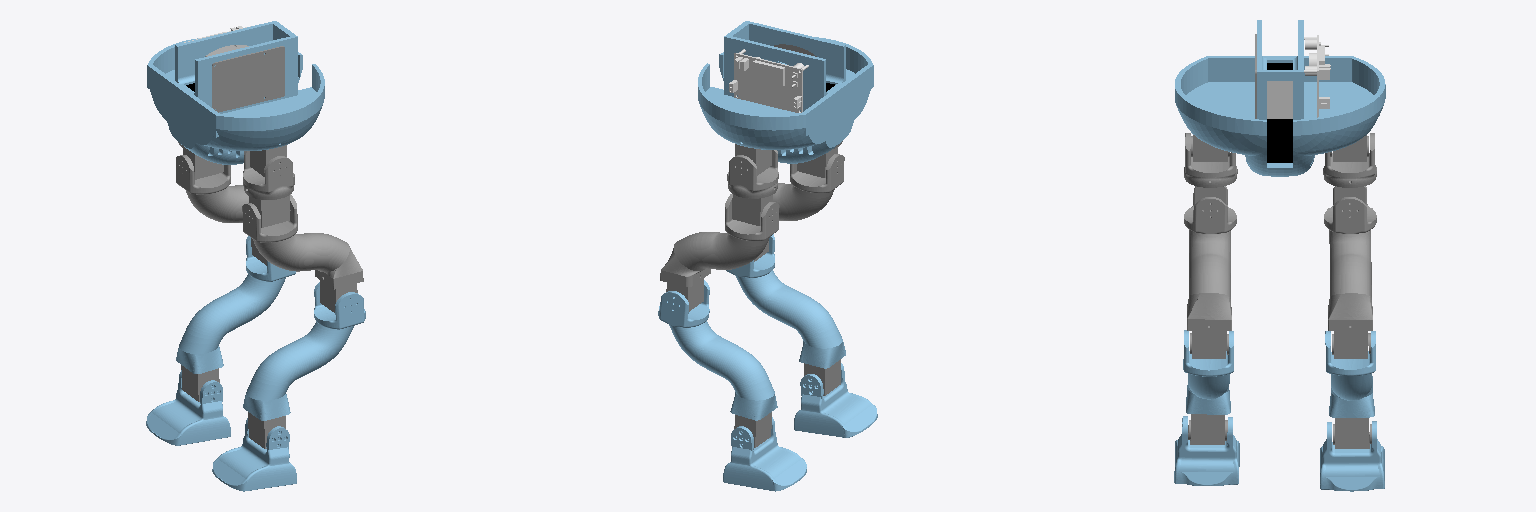
robot.urdf — my-robot:
<?xml version="1.0" ?>
<!-- Generated using onshape-to-robot -->
<!-- Onshape https://cad.onshape.com/documents/9d2080de34ebceed1cc9ba44/w/3a1644932f3a523ccc92595b/e/56ccc4c1c9e4b5ecf9cbc1f9 -->
<robot name="my-robot">
  <!-- Link part_1 -->
  <link name="part_1">
    <inertial>
      <origin xyz="0.0668593 0.0314302 -0.121388" rpy="0 0 0"/>
      <mass value="0.245119"/>
      <inertia ixx="0.00024011" ixy="-6.46676e-07" ixz="0.000196596" iyy="0.000484832" iyz="3.52593e-07" izz="0.000298617"/>
    </inertial>
    <!-- Part part_5 -->
    <visual>
      <origin xyz="0.113875 0.0481558 -0.139531" rpy="-0.00700843 0.0176317 3.14159"/>
      <geometry>
        <mesh filename="package://assets/part_5.stl"/>
      </geometry>
      <material name="part_5_material">
        <color rgba="0.647059 0.647059 0.647059 1"/>
      </material>
    </visual>
    <collision>
      <origin xyz="0.113875 0.0481558 -0.139531" rpy="-0.00700843 0.0176317 3.14159"/>
      <geometry>
        <mesh filename="package://assets/part_5.stl"/>
      </geometry>
    </collision>
    <!-- Part part_1 -->
    <visual>
      <origin xyz="0.0226911 0.0312427 -0.0822472" rpy="0.00700843 -0.0176317 -0"/>
      <geometry>
        <mesh filename="package://assets/part_1.stl"/>
      </geometry>
      <material name="part_1_material">
        <color rgba="0.647059 0.647059 0.647059 1"/>
      </material>
    </visual>
    <collision>
      <origin xyz="0.0226911 0.0312427 -0.0822472" rpy="0.00700843 -0.0176317 -0"/>
      <geometry>
        <mesh filename="package://assets/part_1.stl"/>
      </geometry>
    </collision>
    <!-- Part part_6 -->
    <visual>
      <origin xyz="0.00618847 0.0433435 -0.0255237" rpy="0.0176322 0.00700735 -1.57067"/>
      <geometry>
        <mesh filename="package://assets/part_6.stl"/>
      </geometry>
      <material name="part_6_material">
        <color rgba="0.647059 0.647059 0.647059 1"/>
      </material>
    </visual>
    <collision>
      <origin xyz="0.00618847 0.0433435 -0.0255237" rpy="0.0176322 0.00700735 -1.57067"/>
      <geometry>
        <mesh filename="package://assets/part_6.stl"/>
      </geometry>
    </collision>
  </link>
  <!-- Link part_1_2 -->
  <link name="part_1_2">
    <inertial>
      <origin xyz="-8.07175e-06 0.0238271 -0.0136689" rpy="0 0 0"/>
      <mass value="0.0916657"/>
      <inertia ixx="3.98558e-05" ixy="-3.68673e-07" ixz="1.22e-10" iyy="2.51053e-05" iyz="-3.68817e-07" izz="4.26429e-05"/>
    </inertial>
    <!-- Part part_1_2 -->
    <visual>
      <origin xyz="-0.000168201 0.0239994 -0.0135" rpy="1.5708 -0 -3.13458"/>
      <geometry>
        <mesh filename="package://assets/part_1__2.stl"/>
      </geometry>
      <material name="part_1_2_material">
        <color rgba="0.647059 0.647059 0.647059 1"/>
      </material>
    </visual>
    <collision>
      <origin xyz="-0.000168201 0.0239994 -0.0135" rpy="1.5708 -0 -3.13458"/>
      <geometry>
        <mesh filename="package://assets/part_1__2.stl"/>
      </geometry>
    </collision>
    <!-- Part part_5_2 -->
    <visual>
      <origin xyz="-0.012752 0.0359115 0.003" rpy="-1.5708 -0 0.00700843"/>
      <geometry>
        <mesh filename="package://assets/part_5.stl"/>
      </geometry>
      <material name="part_5_2_material">
        <color rgba="0.647059 0.647059 0.647059 1"/>
      </material>
    </visual>
    <collision>
      <origin xyz="-0.012752 0.0359115 0.003" rpy="-1.5708 -0 0.00700843"/>
      <geometry>
        <mesh filename="package://assets/part_5.stl"/>
      </geometry>
    </collision>
    <!-- Part part_8 -->
    <visual>
      <origin xyz="0.0161533 0.092335 -0.026" rpy="-1.5778 1.5708 0"/>
      <geometry>
        <mesh filename="package://assets/part_8.stl"/>
      </geometry>
      <material name="part_8_material">
        <color rgba="0.647059 0.647059 0.647059 1"/>
      </material>
    </visual>
    <collision>
      <origin xyz="0.0161533 0.092335 -0.026" rpy="-1.5778 1.5708 0"/>
      <geometry>
        <mesh filename="package://assets/part_8.stl"/>
      </geometry>
    </collision>
  </link>
  <!-- Link part_7 -->
  <link name="part_7">
    <inertial>
      <origin xyz="0.00122883 0.0335318 0.0509567" rpy="0 0 0"/>
      <mass value="1.38685"/>
      <inertia ixx="0.00339891" ixy="-4.83313e-05" ixz="-1.14056e-05" iyy="0.00379814" iyz="0.000138768" izz="0.00271512"/>
    </inertial>
    <!-- Part control -->
    <visual>
      <origin xyz="0.0603 0.0574731 0.0405401" rpy="1.5708 0 1.5708"/>
      <geometry>
        <mesh filename="package://assets/control.stl"/>
      </geometry>
      <material name="control_material">
        <color rgba="0.917647 0.917647 0.917647 1"/>
      </material>
    </visual>
    <collision>
      <origin xyz="0.0603 0.0574731 0.0405401" rpy="1.5708 0 1.5708"/>
      <geometry>
        <mesh filename="package://assets/control.stl"/>
      </geometry>
    </collision>
    <!-- Part part_7 -->
    <visual>
      <origin xyz="0.0125 0.036 0.003" rpy="-1.5708 -0 0"/>
      <geometry>
        <mesh filename="package://assets/part_7.stl"/>
      </geometry>
      <material name="part_7_material">
        <color rgba="0.647059 0.647059 0.647059 1"/>
      </material>
    </visual>
    <collision>
      <origin xyz="0.0125 0.036 0.003" rpy="-1.5708 -0 0"/>
      <geometry>
        <mesh filename="package://assets/part_7.stl"/>
      </geometry>
    </collision>
    <!-- Part dc_converter_5_3_32v_to_1_2_32v -->
    <visual>
      <origin xyz="0.00744007 0.0666643 0.01555" rpy="-0 0 0"/>
      <geometry>
        <mesh filename="package://assets/dc_converter_5_3_32v_to_1_2_32v.stl"/>
      </geometry>
      <material name="dc_converter_5_3_32v_to_1_2_32v_material">
        <color rgba="0.917647 0.917647 0.917647 1"/>
      </material>
    </visual>
    <collision>
      <origin xyz="0.00744007 0.0666643 0.01555" rpy="-0 0 0"/>
      <geometry>
        <mesh filename="package://assets/dc_converter_5_3_32v_to_1_2_32v.stl"/>
      </geometry>
    </collision>
    <!-- Part battery -->
    <visual>
      <origin xyz="-0.0523205 0.001 0.0651" rpy="3.14159 0 1.5708"/>
      <geometry>
        <mesh filename="package://assets/battery.stl"/>
      </geometry>
      <material name="battery_material">
        <color rgba="0 0 0 1"/>
      </material>
    </visual>
    <collision>
      <origin xyz="-0.0523205 0.001 0.0651" rpy="3.14159 0 1.5708"/>
      <geometry>
        <mesh filename="package://assets/battery.stl"/>
      </geometry>
    </collision>
    <!-- Part pi -->
    <visual>
      <origin xyz="0.00161778 0.0721275 0.07635" rpy="-1.5708 0 -0"/>
      <geometry>
        <mesh filename="package://assets/pi.stl"/>
      </geometry>
      <material name="pi_material">
        <color rgba="0.647059 0.647059 0.647059 1"/>
      </material>
    </visual>
    <collision>
      <origin xyz="0.00161778 0.0721275 0.07635" rpy="-1.5708 0 -0"/>
      <geometry>
        <mesh filename="package://assets/pi.stl"/>
      </geometry>
    </collision>
    <!-- Part part_7_2 -->
    <visual>
      <origin xyz="0.0125 0.036 0.1361" rpy="-1.5708 -0 0"/>
      <geometry>
        <mesh filename="package://assets/part_7.stl"/>
      </geometry>
      <material name="part_7_2_material">
        <color rgba="0.647059 0.647059 0.647059 1"/>
      </material>
    </visual>
    <collision>
      <origin xyz="0.0125 0.036 0.1361" rpy="-1.5708 -0 0"/>
      <geometry>
        <mesh filename="package://assets/part_7.stl"/>
      </geometry>
    </collision>
    <!-- Part board -->
    <visual>
      <origin xyz="-0.0127 -0.0205 0.06194" rpy="-1.5708 -0 0"/>
      <geometry>
        <mesh filename="package://assets/board.stl"/>
      </geometry>
      <material name="board_material">
        <color rgba="0.470588 0.431373 0.27451 1"/>
      </material>
    </visual>
    <collision>
      <origin xyz="-0.0127 -0.0205 0.06194" rpy="-1.5708 -0 0"/>
      <geometry>
        <mesh filename="package://assets/board.stl"/>
      </geometry>
    </collision>
    <!-- Part body -->
    <visual>
      <origin xyz="0 0.081 0.05305" rpy="-1.5708 1.5708 0"/>
      <geometry>
        <mesh filename="package://assets/body.stl"/>
      </geometry>
      <material name="body_material">
        <color rgba="0.615686 0.811765 0.929412 1"/>
      </material>
    </visual>
    <collision>
      <origin xyz="0 0.081 0.05305" rpy="-1.5708 1.5708 0"/>
      <geometry>
        <mesh filename="package://assets/body.stl"/>
      </geometry>
    </collision>
  </link>
  <!-- Link part_5 -->
  <link name="part_5">
    <inertial>
      <origin xyz="0.00104858 0.0323764 0.0136411" rpy="0 0 0"/>
      <mass value="0.0916657"/>
      <inertia ixx="4.26099e-05" ixy="-8.44248e-07" ixz="-1.5282e-08" iyy="2.51441e-05" iyz="-4.71771e-07" izz="3.98499e-05"/>
    </inertial>
    <!-- Part part_8_2 -->
    <visual>
      <origin xyz="0.0115176 -0.0363262 -0.003" rpy="1.5708 0 -0.0271632"/>
      <geometry>
        <mesh filename="package://assets/part_8.stl"/>
      </geometry>
      <material name="part_8_2_material">
        <color rgba="0.647059 0.647059 0.647059 1"/>
      </material>
    </visual>
    <collision>
      <origin xyz="0.0115176 -0.0363262 -0.003" rpy="1.5708 0 -0.0271632"/>
      <geometry>
        <mesh filename="package://assets/part_8.stl"/>
      </geometry>
    </collision>
    <!-- Part part_5_3 -->
    <visual>
      <origin xyz="-0.0159448 0.0206602 0.0263" rpy="1.59796 1.5708 0"/>
      <geometry>
        <mesh filename="package://assets/part_5.stl"/>
      </geometry>
      <material name="part_5_3_material">
        <color rgba="0.647059 0.647059 0.647059 1"/>
      </material>
    </visual>
    <collision>
      <origin xyz="-0.0159448 0.0206602 0.0263" rpy="1.59796 1.5708 0"/>
      <geometry>
        <mesh filename="package://assets/part_5.stl"/>
      </geometry>
    </collision>
    <!-- Part part_1_3 -->
    <visual>
      <origin xyz="0.000875076 0.0322076 0.0138" rpy="1.54363 -1.5708 0"/>
      <geometry>
        <mesh filename="package://assets/part_1__2.stl"/>
      </geometry>
      <material name="part_1_3_material">
        <color rgba="0.647059 0.647059 0.647059 1"/>
      </material>
    </visual>
    <collision>
      <origin xyz="0.000875076 0.0322076 0.0138" rpy="1.54363 -1.5708 0"/>
      <geometry>
        <mesh filename="package://assets/part_1__2.stl"/>
      </geometry>
    </collision>
  </link>
  <!-- Link part_5_2 -->
  <link name="part_5_2">
    <inertial>
      <origin xyz="0.000803505 0.060828 0.0559712" rpy="0 0 0"/>
      <mass value="0.245119"/>
      <inertia ixx="0.000484778" ixy="-3.24788e-06" ixz="-3.05313e-06" iyy="0.000291722" iyz="-0.000197483" izz="0.000247059"/>
    </inertial>
    <!-- Part part_1_4 -->
    <visual>
      <origin xyz="0.000244602 0.0209181 0.0125" rpy="1.5591 -1.5708 0"/>
      <geometry>
        <mesh filename="package://assets/part_1.stl"/>
      </geometry>
      <material name="part_1_4_material">
        <color rgba="0.647059 0.647059 0.647059 1"/>
      </material>
    </visual>
    <collision>
      <origin xyz="0.000244602 0.0209181 0.0125" rpy="1.5591 -1.5708 0"/>
      <geometry>
        <mesh filename="package://assets/part_1.stl"/>
      </geometry>
    </collision>
    <!-- Part part_6_2 -->
    <visual>
      <origin xyz="-0.0358514 0.0129201 -0.003" rpy="1.5708 0 -1.58249"/>
      <geometry>
        <mesh filename="package://assets/part_6.stl"/>
      </geometry>
      <material name="part_6_2_material">
        <color rgba="0.647059 0.647059 0.647059 1"/>
      </material>
    </visual>
    <collision>
      <origin xyz="-0.0358514 0.0129201 -0.003" rpy="1.5708 0 -1.58249"/>
      <geometry>
        <mesh filename="package://assets/part_6.stl"/>
      </geometry>
    </collision>
    <!-- Part part_5_4 -->
    <visual>
      <origin xyz="-0.0155644 0.080107 0.10266" rpy="1.58249 1.5708 0"/>
      <geometry>
        <mesh filename="package://assets/part_5.stl"/>
      </geometry>
      <material name="part_5_4_material">
        <color rgba="0.647059 0.647059 0.647059 1"/>
      </material>
    </visual>
    <collision>
      <origin xyz="-0.0155644 0.080107 0.10266" rpy="1.58249 1.5708 0"/>
      <geometry>
        <mesh filename="package://assets/part_5.stl"/>
      </geometry>
    </collision>
  </link>
  <!-- Link part_7_2 -->
  <link name="part_7_2">
    <inertial>
      <origin xyz="0.0644761 -0.0524862 0.0133635" rpy="0 0 0"/>
      <mass value="0.2527"/>
      <inertia ixx="0.000367512" ixy="0.000259026" ixz="-1.13125e-06" iyy="0.000311084" iyz="5.35788e-07" izz="0.00061609"/>
    </inertial>
    <!-- Part part_1_5 -->
    <visual>
      <origin xyz="0.0196195 0 0.0133" rpy="-1.5708 -0 1.5708"/>
      <geometry>
        <mesh filename="package://assets/part_1__3.stl"/>
      </geometry>
      <material name="part_1_5_material">
        <color rgba="0.615686 0.811765 0.929412 1"/>
      </material>
    </visual>
    <collision>
      <origin xyz="0.0196195 0 0.0133" rpy="-1.5708 -0 1.5708"/>
      <geometry>
        <mesh filename="package://assets/part_1__3.stl"/>
      </geometry>
    </collision>
    <!-- Part part_7_3 -->
    <visual>
      <origin xyz="0.0899876 -0.101241 -0.0032" rpy="1.5708 0 -1.5894"/>
      <geometry>
        <mesh filename="package://assets/part_7.stl"/>
      </geometry>
      <material name="part_7_3_material">
        <color rgba="0.647059 0.647059 0.647059 1"/>
      </material>
    </visual>
    <collision>
      <origin xyz="0.0899876 -0.101241 -0.0032" rpy="1.5708 0 -1.5894"/>
      <geometry>
        <mesh filename="package://assets/part_7.stl"/>
      </geometry>
    </collision>
    <!-- Part part_6_3 -->
    <visual>
      <origin xyz="-0.0125 -0.036 -0.003" rpy="1.5708 -0 -0"/>
      <geometry>
        <mesh filename="package://assets/part_6.stl"/>
      </geometry>
      <material name="part_6_3_material">
        <color rgba="0.647059 0.647059 0.647059 1"/>
      </material>
    </visual>
    <collision>
      <origin xyz="-0.0125 -0.036 -0.003" rpy="1.5708 -0 -0"/>
      <geometry>
        <mesh filename="package://assets/part_6.stl"/>
      </geometry>
    </collision>
  </link>
  <!-- Link part_8 -->
  <link name="part_8">
    <inertial>
      <origin xyz="0.0076145 0.0329333 0.0136792" rpy="0 0 0"/>
      <mass value="0.124333"/>
      <inertia ixx="5.58472e-05" ixy="-6.12256e-06" ixz="-1.12369e-07" iyy="7.28398e-05" iyz="-4.83307e-07" izz="5.15735e-05"/>
    </inertial>
    <!-- Part left_foot -->
    <visual>
      <origin xyz="-0.0526263 0.014345 0.0138" rpy="-3.14159 1.5708 0"/>
      <geometry>
        <mesh filename="package://assets/left_foot.stl"/>
      </geometry>
      <material name="left_foot_material">
        <color rgba="0.615686 0.811765 0.929412 1"/>
      </material>
    </visual>
    <collision>
      <origin xyz="-0.0526263 0.014345 0.0138" rpy="-3.14159 1.5708 0"/>
      <geometry>
        <mesh filename="package://assets/left_foot.stl"/>
      </geometry>
    </collision>
    <!-- Part part_8_3 -->
    <visual>
      <origin xyz="0.0125 -0.036 -0.003" rpy="1.5708 -0 -0"/>
      <geometry>
        <mesh filename="package://assets/part_8.stl"/>
      </geometry>
      <material name="part_8_3_material">
        <color rgba="0.647059 0.647059 0.647059 1"/>
      </material>
    </visual>
    <collision>
      <origin xyz="0.0125 -0.036 -0.003" rpy="1.5708 -0 -0"/>
      <geometry>
        <mesh filename="package://assets/part_8.stl"/>
      </geometry>
    </collision>
  </link>
  <!-- Joint from part_7_2 to part_8 -->
  <joint name="ankle_pitch_left_id8" type="revolute">
    <origin xyz="0.126214 -0.0894132 -0.0002" rpy="0 -0 -1.706"/>
    <parent link="part_7_2"/>
    <child link="part_8"/>
    <axis xyz="0 0 1"/>
    <limit effort="10" velocity="10" lower="-1.4542" upper="1.68739"/>
  </joint>
  <!-- Joint from part_5_2 to part_7_2 -->
  <joint name="knee_pitch_left_id7" type="revolute">
    <origin xyz="-0.0121437 0.116069 0.0901596" rpy="1.5708 -0.0154402 1.5591"/>
    <parent link="part_5_2"/>
    <child link="part_7_2"/>
    <axis xyz="0 0 1"/>
    <limit effort="10" velocity="10" lower="-1.1499" upper="1.29356"/>
  </joint>
  <!-- Joint from part_5 to part_5_2 -->
  <joint name="hip_yaw_left_id2" type="revolute">
    <origin xyz="-0.0119681 0.0565654 0.0138" rpy="0.0271632 1.5708 0"/>
    <parent link="part_5"/>
    <child link="part_5_2"/>
    <axis xyz="0 0 1"/>
    <limit effort="10" velocity="10" lower="-1.5591" upper="1.58249"/>
  </joint>
  <!-- Joint from part_7 to part_5 -->
  <joint name="hip_pitch_left_id1" type="revolute">
    <origin xyz="-0 0 0.1331" rpy="3.14159 -0 0"/>
    <parent link="part_7"/>
    <child link="part_5"/>
    <axis xyz="0 0 1"/>
    <limit effort="10" velocity="10" lower="-1.19457" upper="1.07436"/>
  </joint>
  <!-- Joint from part_1_2 to part_7 -->
  <joint name="hip_pitch_right_id5" type="revolute">
    <origin xyz="0.0134057 0.0563148 -0.0135" rpy="-1.5708 1.55316 -1.56379"/>
    <parent link="part_1_2"/>
    <child link="part_7"/>
    <axis xyz="0 0 1"/>
    <limit effort="10" velocity="10" lower="-0.855033" upper="0.977563"/>
  </joint>
  <!-- Joint from part_1 to part_1_2 -->
  <joint name="hip_yaw_right_id6" type="revolute">
    <origin xyz="0.00982425 0.0310961 -0.0615519" rpy="1.58843 0.00700735 -1.57067"/>
    <parent link="part_1"/>
    <child link="part_1_2"/>
    <axis xyz="0 0 1"/>
    <limit effort="10" velocity="10" lower="-1.31601" upper="1.21472"/>
  </joint>
  <!-- Link part_1_3 -->
  <link name="part_1_3">
    <inertial>
      <origin xyz="0.0524862 0.0644761 0.0133635" rpy="0 0 0"/>
      <mass value="0.2527"/>
      <inertia ixx="0.000311084" ixy="-0.000259026" ixz="-5.35788e-07" iyy="0.000367512" iyz="-1.13125e-06" izz="0.00061609"/>
    </inertial>
    <!-- Part part_6_4 -->
    <visual>
      <origin xyz="-0.0125 -0.036 -0.003" rpy="1.5708 -0 -0"/>
      <geometry>
        <mesh filename="package://assets/part_6.stl"/>
      </geometry>
      <material name="part_6_4_material">
        <color rgba="0.647059 0.647059 0.647059 1"/>
      </material>
    </visual>
    <collision>
      <origin xyz="-0.0125 -0.036 -0.003" rpy="1.5708 -0 -0"/>
      <geometry>
        <mesh filename="package://assets/part_6.stl"/>
      </geometry>
    </collision>
    <!-- Part part_7_4 -->
    <visual>
      <origin xyz="0.101241 0.0899876 -0.0032" rpy="1.5708 0 -0.0186013"/>
      <geometry>
        <mesh filename="package://assets/part_7.stl"/>
      </geometry>
      <material name="part_7_4_material">
        <color rgba="0.647059 0.647059 0.647059 1"/>
      </material>
    </visual>
    <collision>
      <origin xyz="0.101241 0.0899876 -0.0032" rpy="1.5708 0 -0.0186013"/>
      <geometry>
        <mesh filename="package://assets/part_7.stl"/>
      </geometry>
    </collision>
    <!-- Part part_1_6 -->
    <visual>
      <origin xyz="-0 0.0196195 0.0133" rpy="-1.5708 -0 3.14159"/>
      <geometry>
        <mesh filename="package://assets/part_1__3.stl"/>
      </geometry>
      <material name="part_1_6_material">
        <color rgba="0.615686 0.811765 0.929412 1"/>
      </material>
    </visual>
    <collision>
      <origin xyz="-0 0.0196195 0.0133" rpy="-1.5708 -0 3.14159"/>
      <geometry>
        <mesh filename="package://assets/part_1__3.stl"/>
      </geometry>
    </collision>
  </link>
  <!-- Link part_8_2 -->
  <link name="part_8_2">
    <inertial>
      <origin xyz="0.0076145 0.0341862 0.0136792" rpy="0 0 0"/>
      <mass value="0.124333"/>
      <inertia ixx="5.5916e-05" ixy="-6.13037e-06" ixz="-1.12369e-07" iyy="7.28398e-05" iyz="-5.01561e-07" izz="5.16424e-05"/>
    </inertial>
    <!-- Part part_8_4 -->
    <visual>
      <origin xyz="0.0125 -0.036 -0.003" rpy="1.5708 -0 -0"/>
      <geometry>
        <mesh filename="package://assets/part_8.stl"/>
      </geometry>
      <material name="part_8_4_material">
        <color rgba="0.647059 0.647059 0.647059 1"/>
      </material>
    </visual>
    <collision>
      <origin xyz="0.0125 -0.036 -0.003" rpy="1.5708 -0 -0"/>
      <geometry>
        <mesh filename="package://assets/part_8.stl"/>
      </geometry>
    </collision>
    <!-- Part left_foot_2 -->
    <visual>
      <origin xyz="-0.0526263 0.0156062 0.0138" rpy="-3.14159 1.5708 0"/>
      <geometry>
        <mesh filename="package://assets/left_foot.stl"/>
      </geometry>
      <material name="left_foot_2_material">
        <color rgba="0.615686 0.811765 0.929412 1"/>
      </material>
    </visual>
    <collision>
      <origin xyz="-0.0526263 0.0156062 0.0138" rpy="-3.14159 1.5708 0"/>
      <geometry>
        <mesh filename="package://assets/left_foot.stl"/>
      </geometry>
    </collision>
  </link>
  <!-- Joint from part_1_3 to part_8_2 -->
  <joint name="ankle_pitch_right_id4" type="revolute">
    <origin xyz="0.0894132 0.126214 -0.0002" rpy="0 0 -0.141883"/>
    <parent link="part_1_3"/>
    <child link="part_8_2"/>
    <axis xyz="0 0 1"/>
    <limit effort="10" velocity="10" lower="-1.62205" upper="1.90352"/>
  </joint>
  <!-- Joint from part_1 to part_1_3 -->
  <joint name="knee_pitch_right_id3" type="revolute">
    <origin xyz="0.102012 0.0454082 -0.175766" rpy="-1.57782 0.0712874 3.14122"/>
    <parent link="part_1"/>
    <child link="part_1_3"/>
    <axis xyz="0 0 1"/>
    <limit effort="10" velocity="10" lower="-1.18812" upper="1.32515"/>
  </joint>
</robot>

--- What the picture shows (computed from the rendered views, not written in the file) ---
Views: 3 orthographic renders of the robot side by side, from view 1: azimuth 30°, elevation 25°; view 2: azimuth 150°, elevation 25°; view 3: azimuth 270°, elevation 25°.
Model my-robot with 9 links and 8 joints (8 revolute), rooted at part_1, posed all joints at 0.
Visible links, largest first — view 1: part_7, part_7_2, part_1_3, part_5_2, part_8_2, part_8, part_1, part_5, part_1_2; view 2: part_7, part_1_3, part_7_2, part_1, part_8_2, part_8, part_5_2, part_1_2, part_5; view 3: part_7, part_5_2, part_1, part_1_3, part_7_2, part_8_2, part_8, part_5, part_1_2.
Link boxes in pixels (x1,y1,x2,y2): part_7: [147, 21, 324, 176]; part_7_2: [243, 282, 365, 448]; part_1_3: [176, 236, 295, 401]; part_5_2: [242, 194, 363, 312]; part_8_2: [146, 370, 230, 445]; part_8: [212, 418, 296, 491]; part_1: [176, 155, 266, 265]; part_5: [243, 151, 294, 227]; part_1_2: [178, 142, 223, 179]; part_7: [698, 21, 873, 175]; part_1_3: [658, 280, 777, 447]; part_7_2: [726, 234, 845, 395]; part_1: [660, 194, 779, 311]; part_8_2: [723, 417, 806, 491]; part_8: [794, 363, 877, 437]; part_5_2: [754, 154, 844, 261]; part_1_2: [727, 150, 778, 225]; part_5: [797, 141, 842, 177]; part_7: [1175, 20, 1385, 176]; part_5_2: [1184, 186, 1236, 358]; part_1: [1324, 186, 1376, 358]; part_1_3: [1325, 331, 1375, 448]; part_7_2: [1183, 330, 1233, 444]; part_8_2: [1320, 421, 1384, 491]; part_8: [1174, 416, 1239, 485]; part_5: [1184, 133, 1237, 201]; part_1_2: [1323, 133, 1376, 200].
Bounding box of the posed robot: 0.1703 × 0.2014 × 0.4596 m (x, y, z).
Meshes: 14 distinct files referenced, 30 mesh visuals loaded (14 binary STL).
